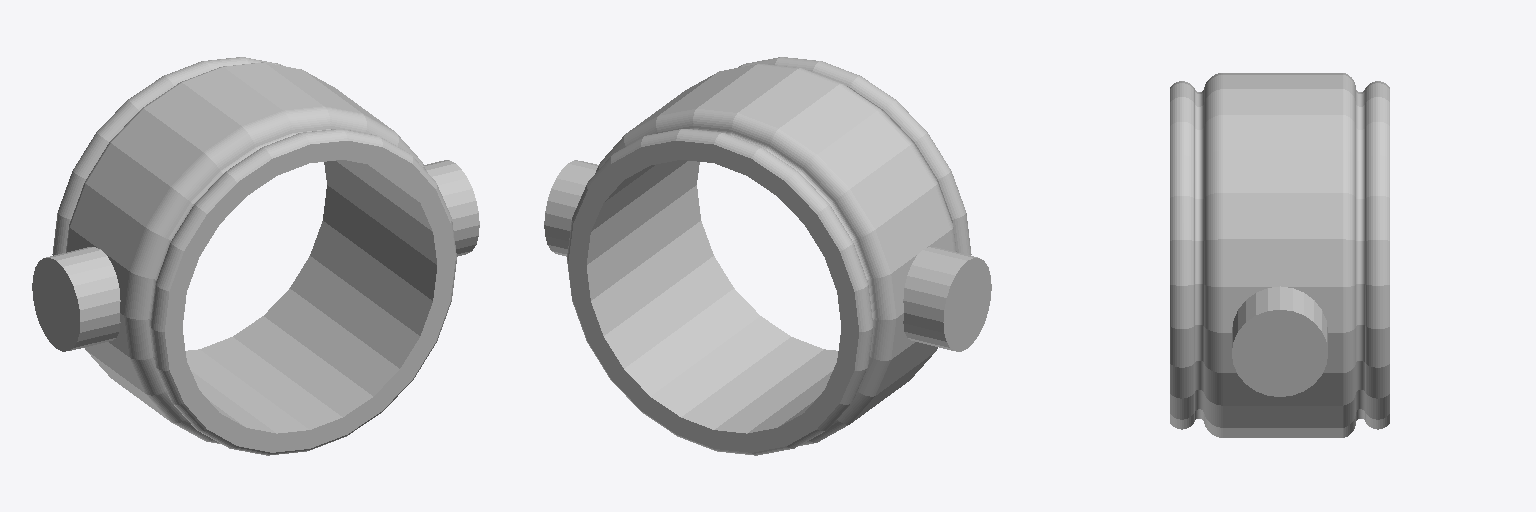
The model's file is srednji_obroc_centered.obj.
3 views of the same model, side by side, from view 1: azimuth 30°, elevation 25°; view 2: azimuth 150°, elevation 25°; view 3: azimuth 270°, elevation 25° (orthographic).
Visible parts, largest first — view 1: AutoSave_nov_top-0-SKP-Default_Material; view 2: AutoSave_nov_top-0-SKP-Default_Material; view 3: AutoSave_nov_top-0-SKP-Default_Material.
Boxes of the visible parts, x1=… form: AutoSave_nov_top-0-SKP-Default_Material: x1=32, y1=57, x2=479, y2=455; AutoSave_nov_top-0-SKP-Default_Material: x1=544, y1=57, x2=991, y2=455; AutoSave_nov_top-0-SKP-Default_Material: x1=1170, y1=73, x2=1389, y2=437.
Size of the model in its own units: 0.334 by 0.266 by 0.16.